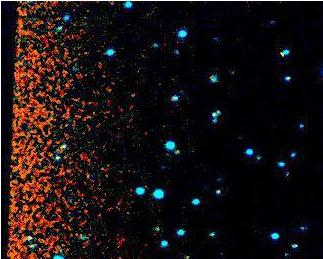star: (265, 41, 295, 71)
